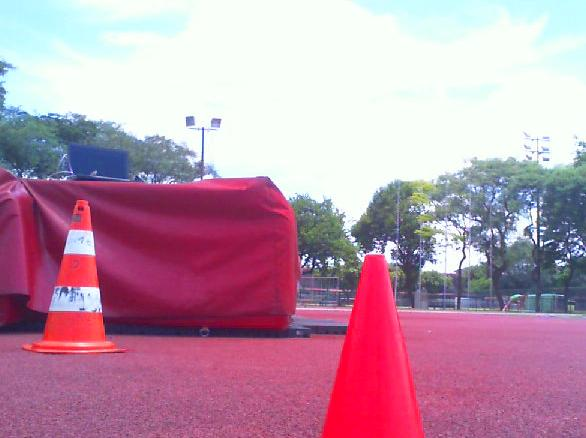0 cone: (306, 254, 436, 438), (21, 200, 127, 356)
